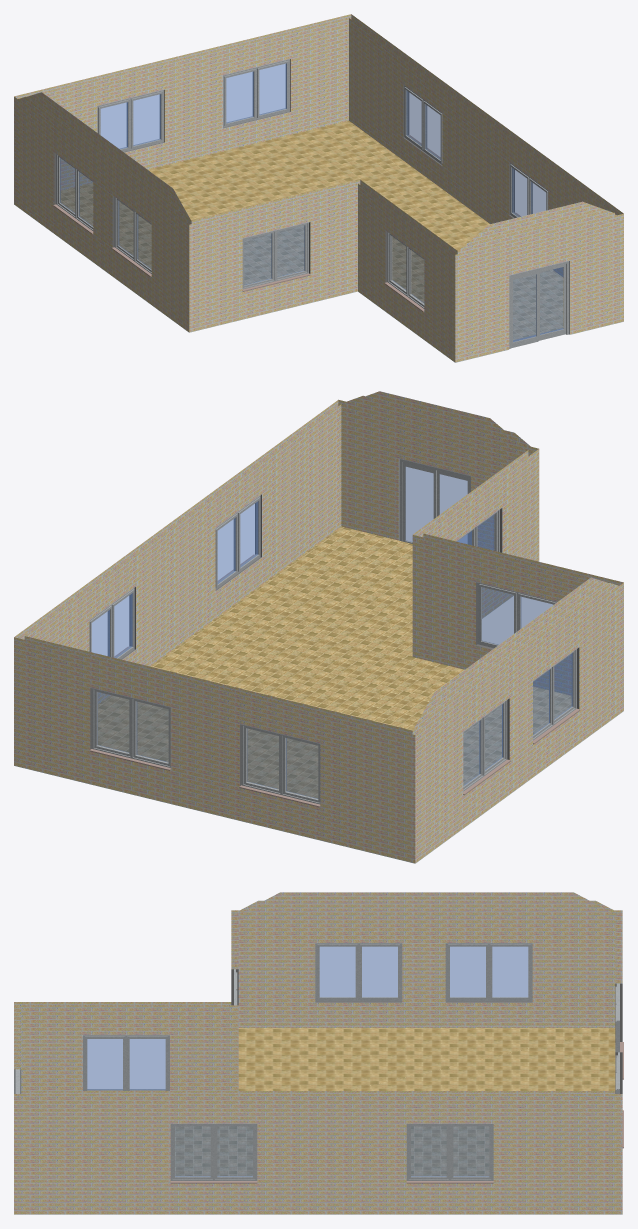
Rendered from telhado44a.gltf.
3 views of the same model, one above another, from view 1: azimuth 30°, elevation 25°; view 2: azimuth 150°, elevation 25°; view 3: azimuth 270°, elevation 25° (orthographic). The views are drawn at different scales.
Bounding box in the file's own units: 10.06 × 3.6 × 14.03.
9 materials, 3 textured.
